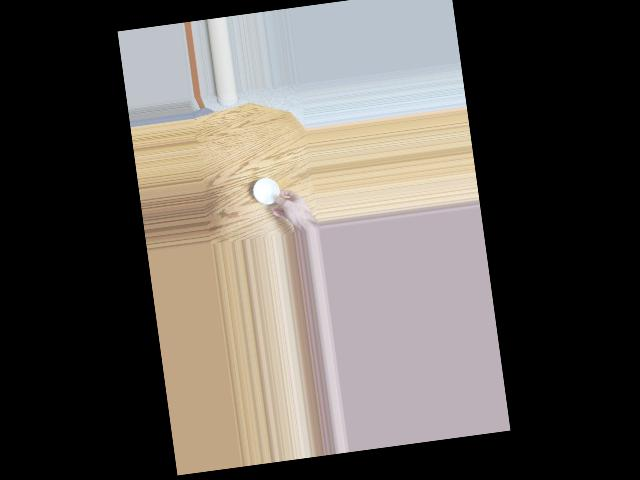cotage: (251, 176, 284, 208)
